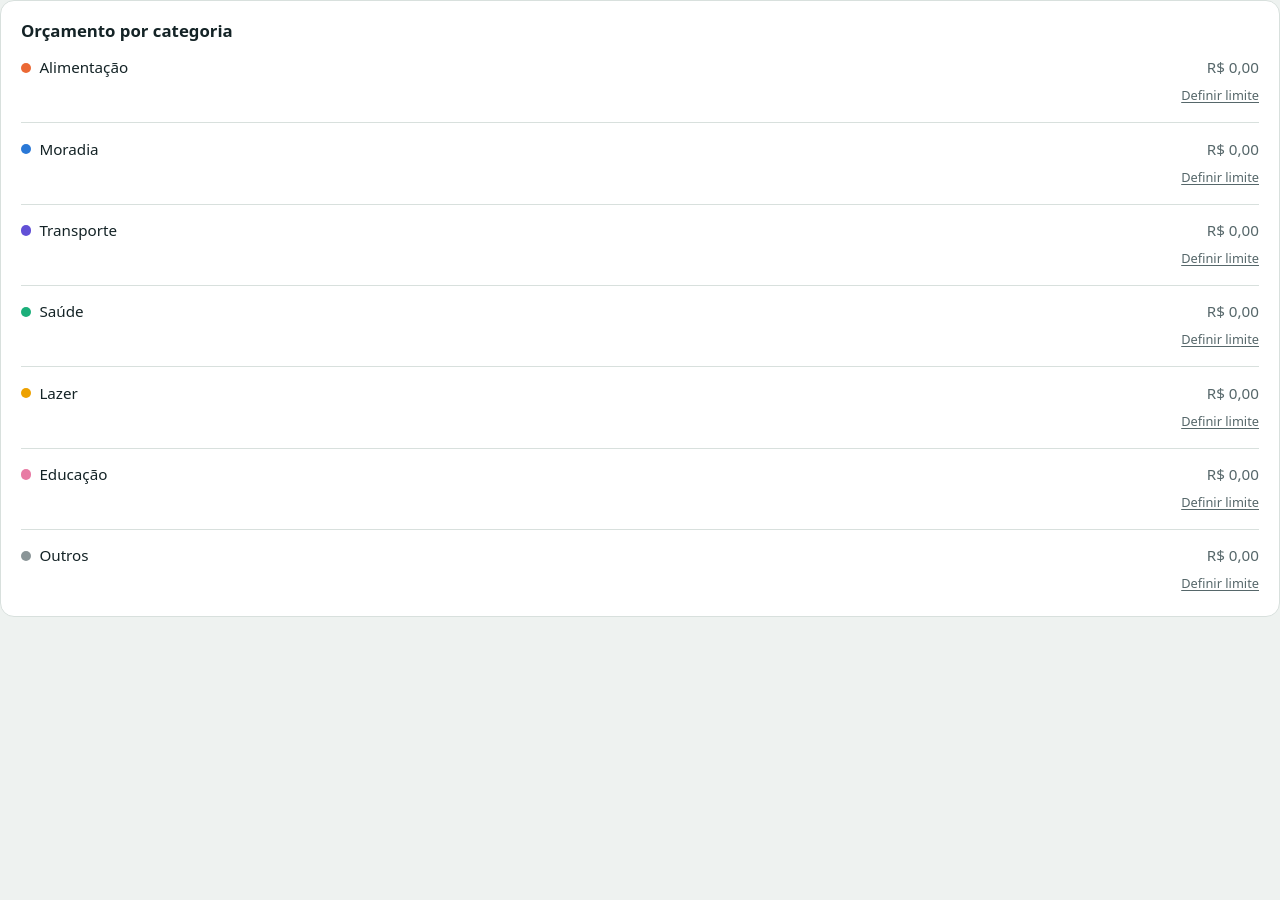
Test case: BudgetPanel › não aceita limite inválido
Click the button with aria-label "Definir limite de Lazer" at coordinates (1220, 421), box 1181,409 -> 1259,433
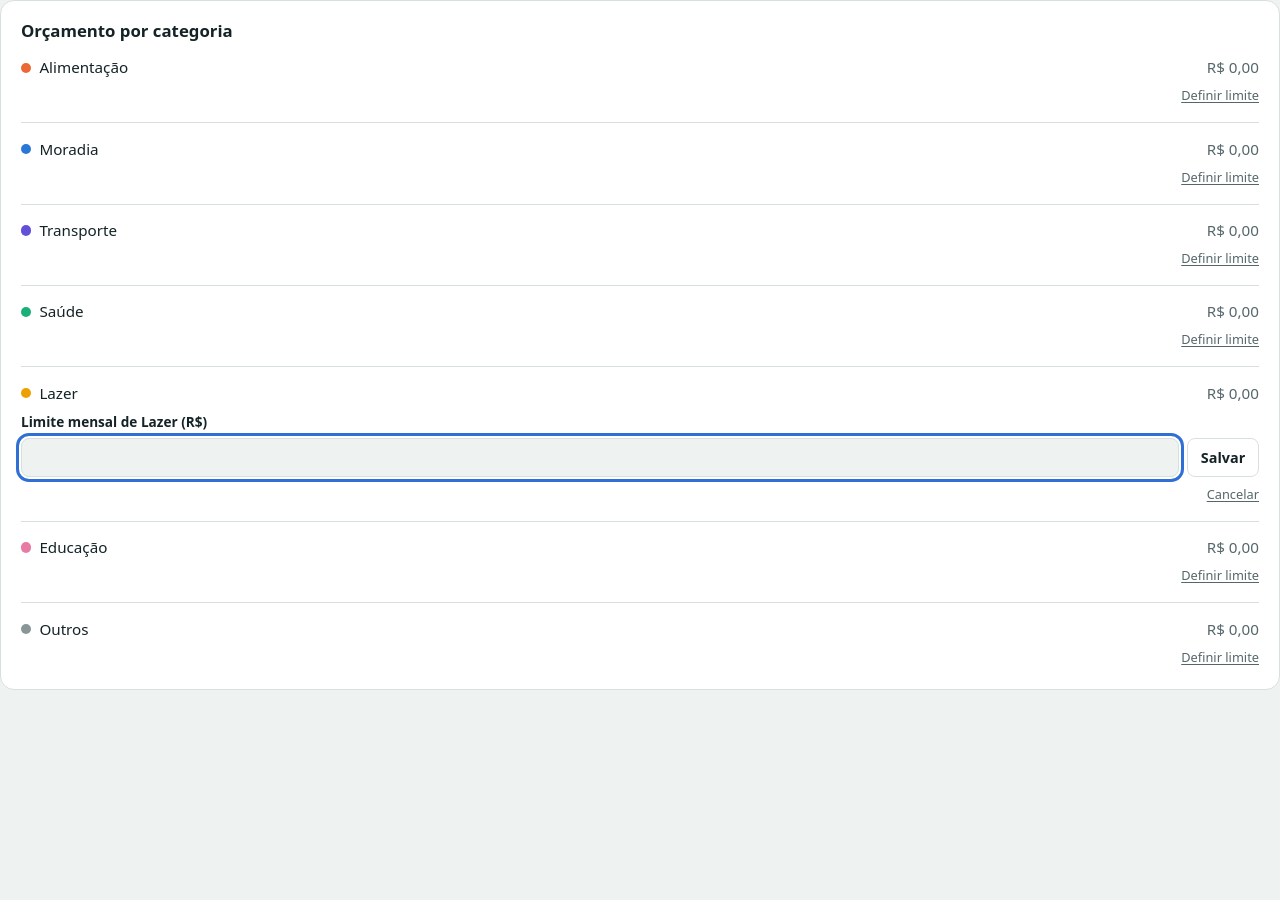
Type "0" into the field labelled "Limite mensal de Lazer (R$)" at coordinates (600, 458), box 21,438 -> 1179,477
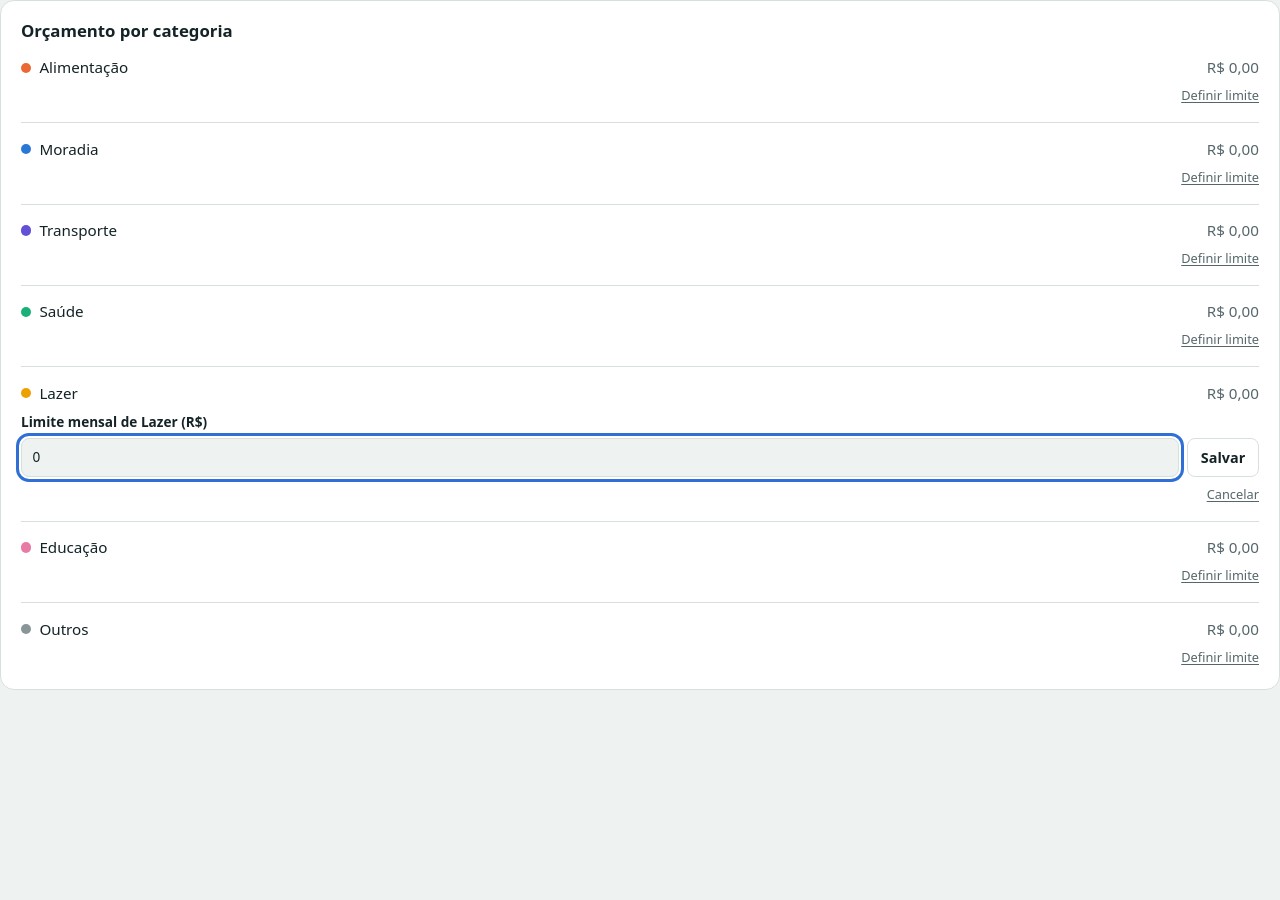
Click the button "Salvar" at coordinates (1223, 458), box 1187,438 -> 1259,477
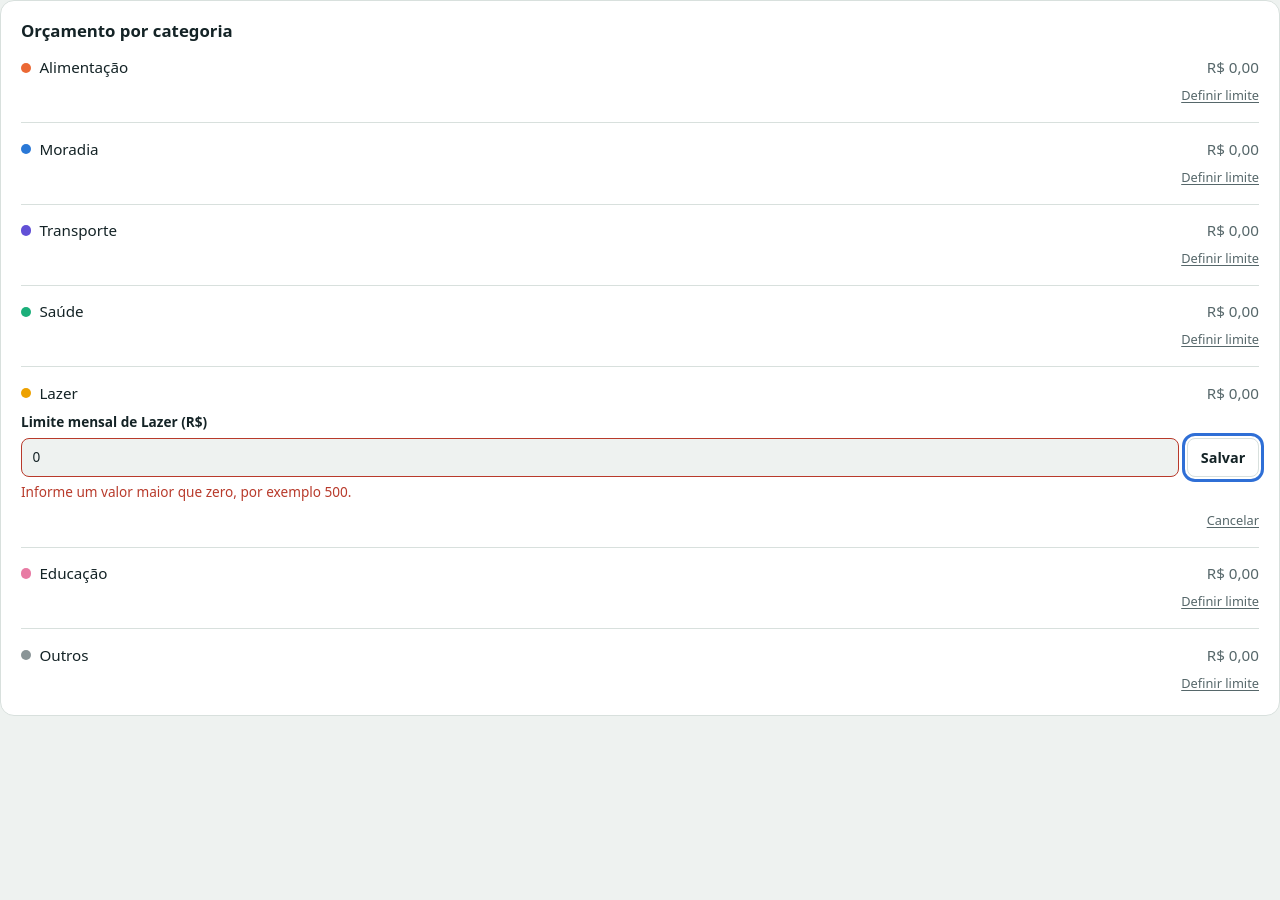
Result: the message shows "Informe um valor maior que zero" at 21,482 -> 352,502
